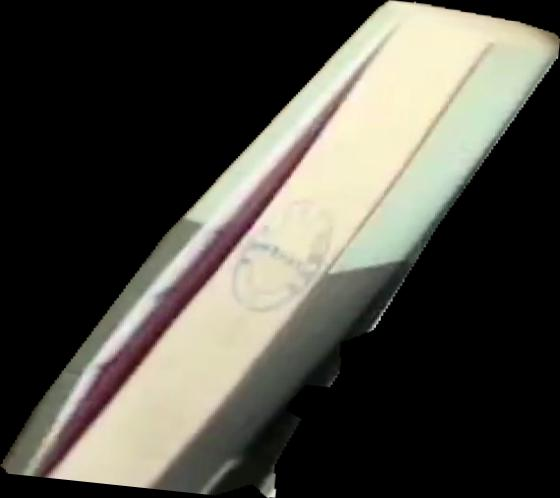backward: (1, 1, 560, 498)
